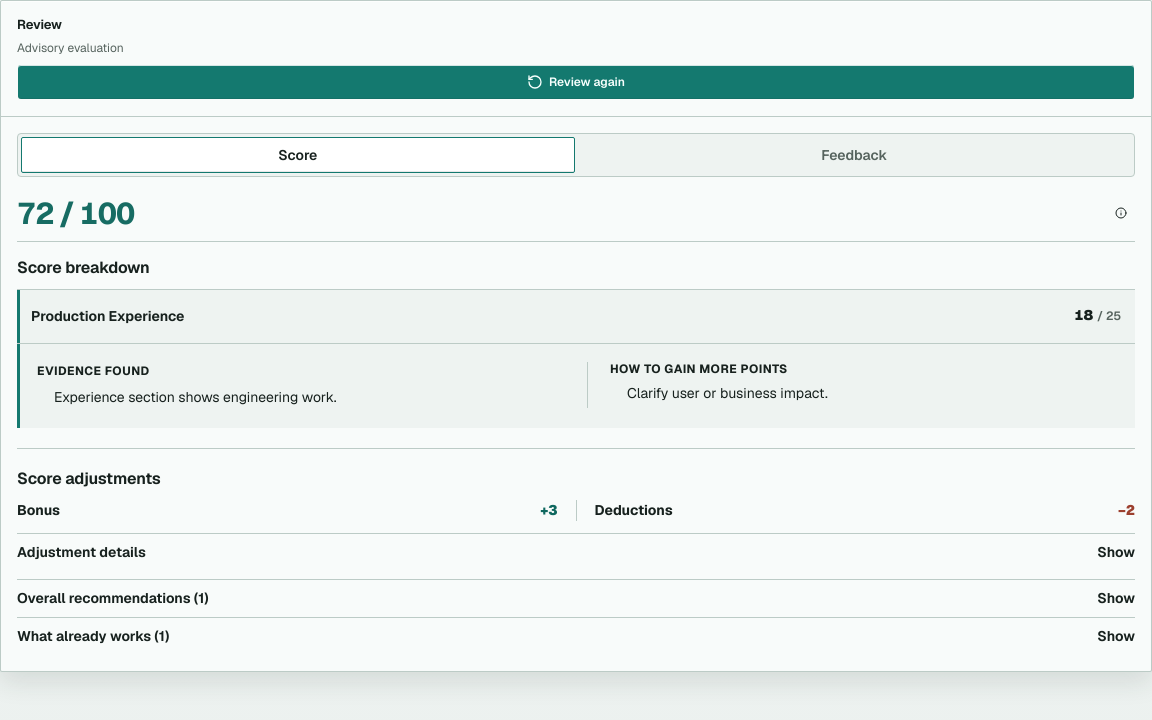
ReviewPanel › keeps Score findings progressively disclosed
This screenshot has width=1152, height=720.
Expected: the text "72 / 100" is shown, [17, 199, 134, 229]
Expected: the text "Quantify production impact." is not shown
Click the button "Overall recommendations (1) Show".
click(113, 598)  # box [17, 579, 1135, 617]
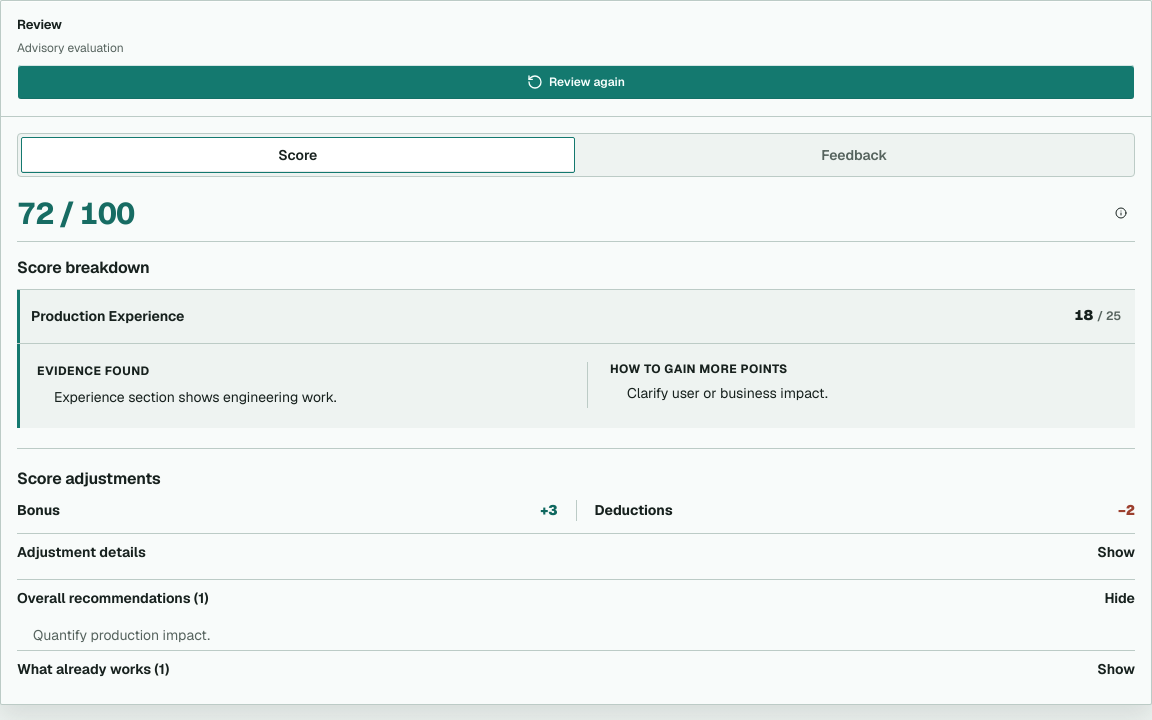
Expected: the text "72 / 100" is shown, [17, 199, 134, 229]
Expected: the list item "Quantify production impact." is shown, [33, 626, 210, 644]
